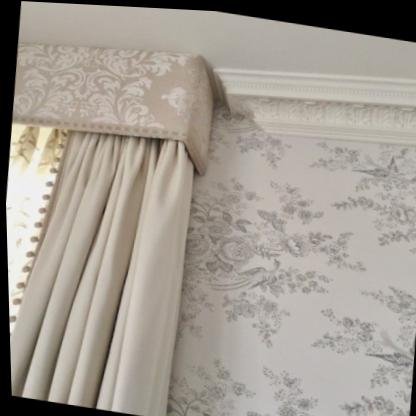Curtains: (3, 112, 211, 416)
